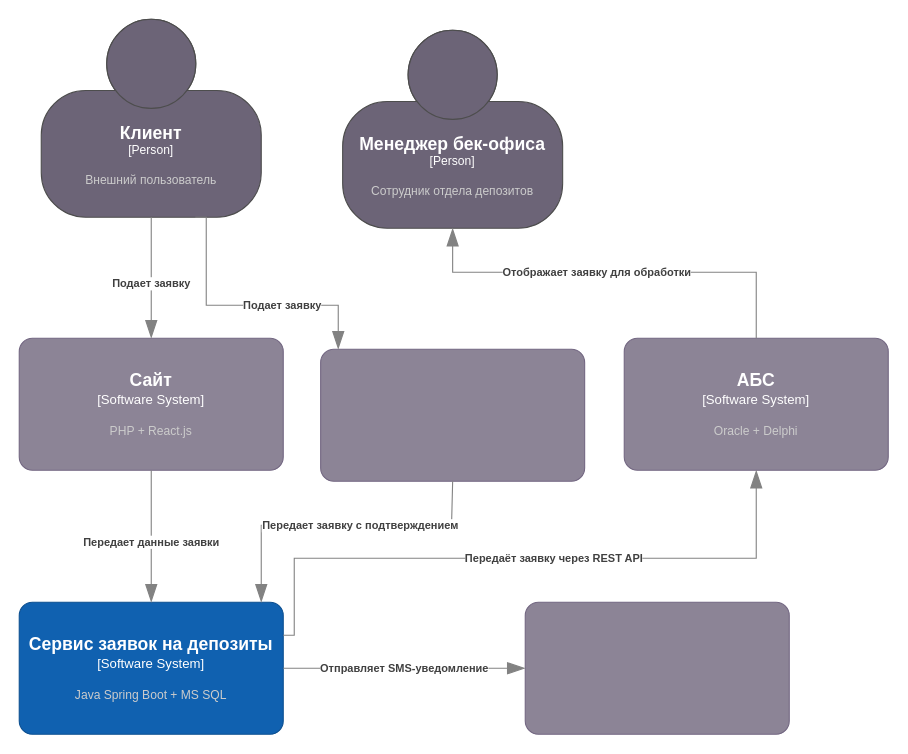
Image size: 908x754. Some labels were removed from this diagram. Here are the shapes that lost their labels. From the top down, the centre of each, then its label:
point (452, 414): Интернет-банк [Software System] .NET MVC 4.5
point (656, 667): СМС-шлюз [Software System] Телеком-оператор
